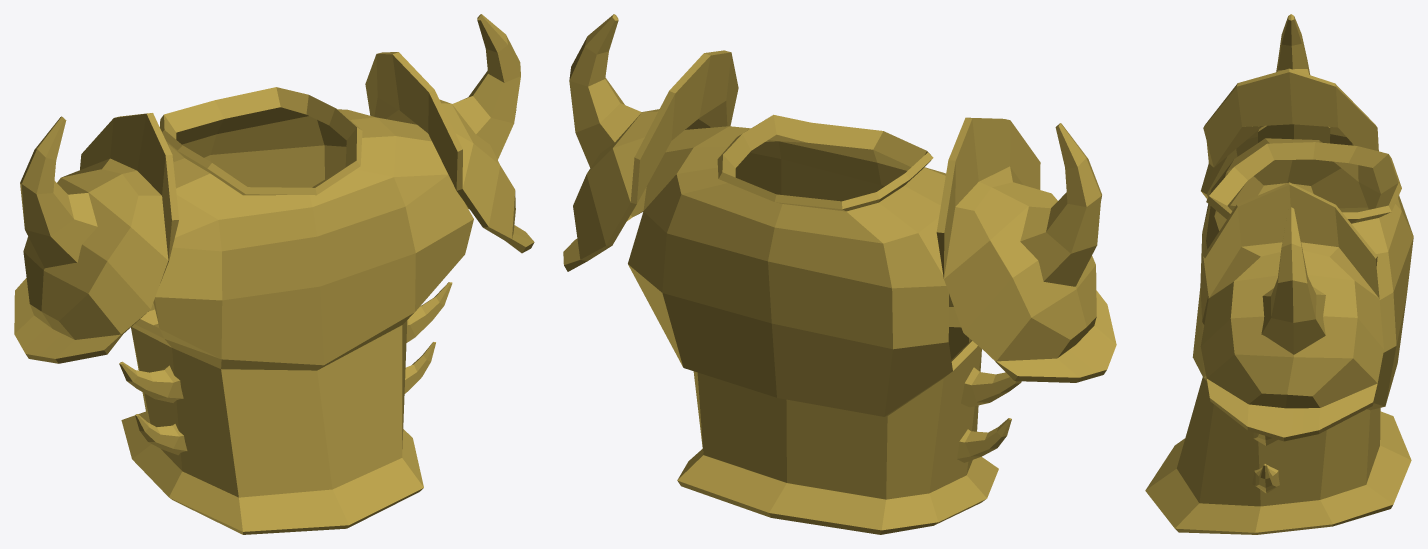
Rendered from armor_golden.glb.
3 renders of one model, left to right at view 1: azimuth 30°, elevation 25°; view 2: azimuth 150°, elevation 25°; view 3: azimuth 270°, elevation 25°, orthographic. The views are drawn at different scales.
Parts seen in each view (by area): view 1: Armor_Golden; view 2: Armor_Golden; view 3: Armor_Golden.
Boxes of the visible parts, left/top/right/bottom form: Armor_Golden: left=14, top=14, right=534, bottom=534; Armor_Golden: left=563, top=14, right=1116, bottom=534; Armor_Golden: left=1145, top=14, right=1413, bottom=534.
Bounding box in the file's own units: 1.54 × 1.2 × 0.7595.
